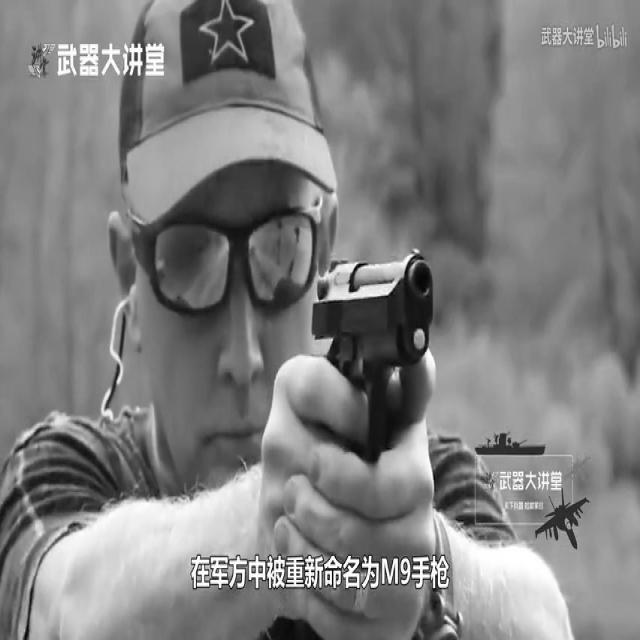Hand-Gun: (304, 235, 439, 548)
